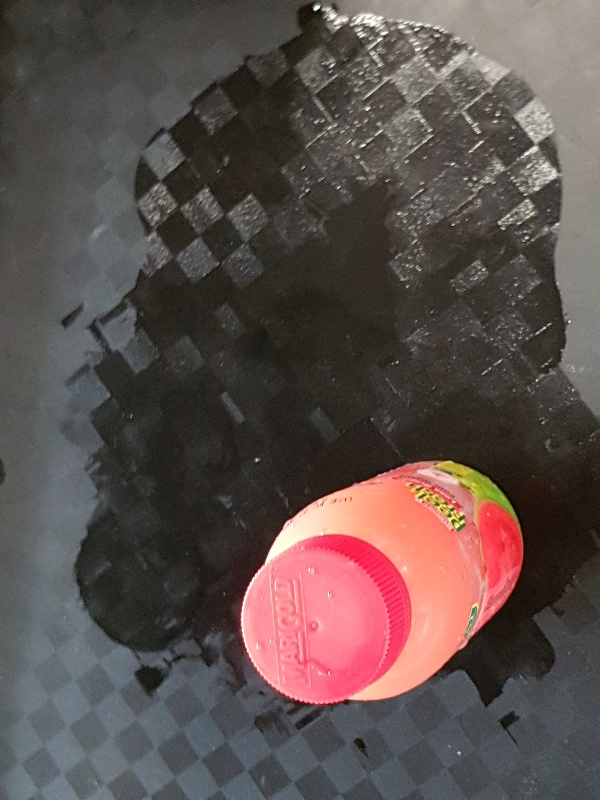Marigold Peel Fresh Pink Guava Juice Drink: (239, 460, 524, 704)
